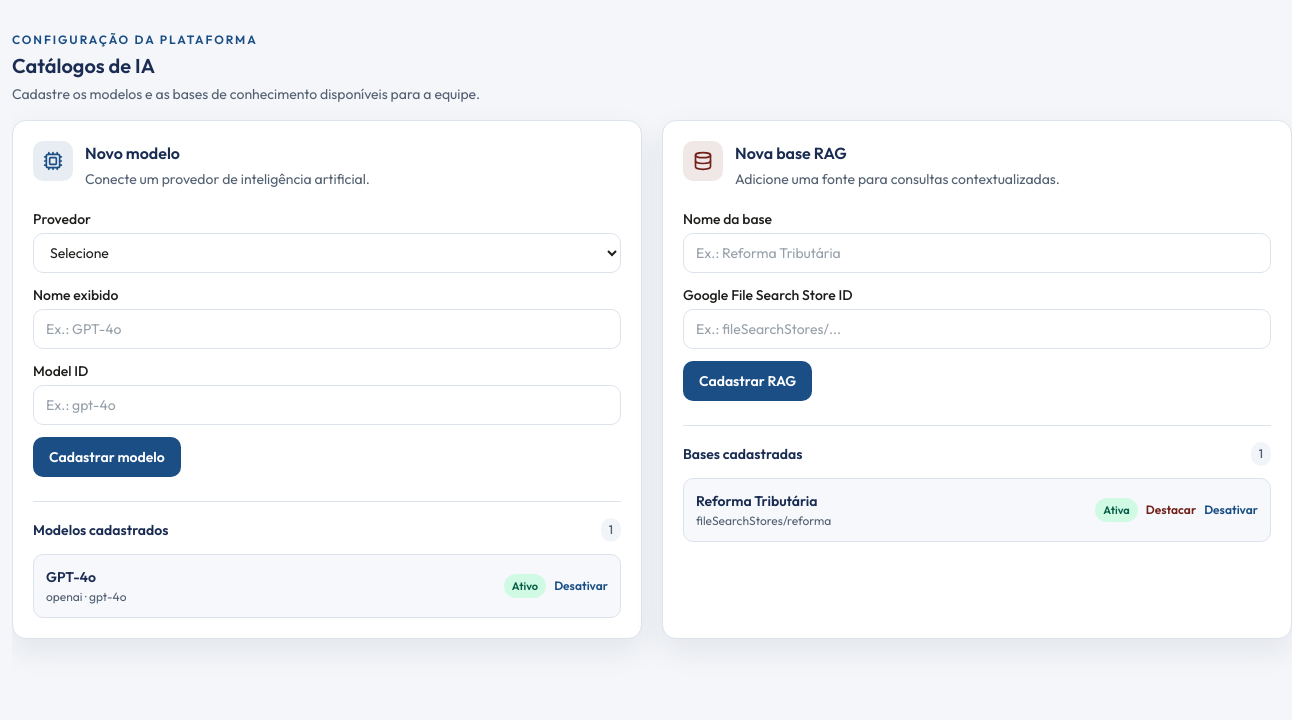
Test: CatalogPanel › allows admins to highlight a knowledge base
The image size is (1292, 720).
Expected: the text "Reforma Tributária" is shown, [696, 491, 831, 511]
Click the button with aria-label "Destacar Reforma Tributária" at (1171,510), box [1146, 502, 1196, 518]
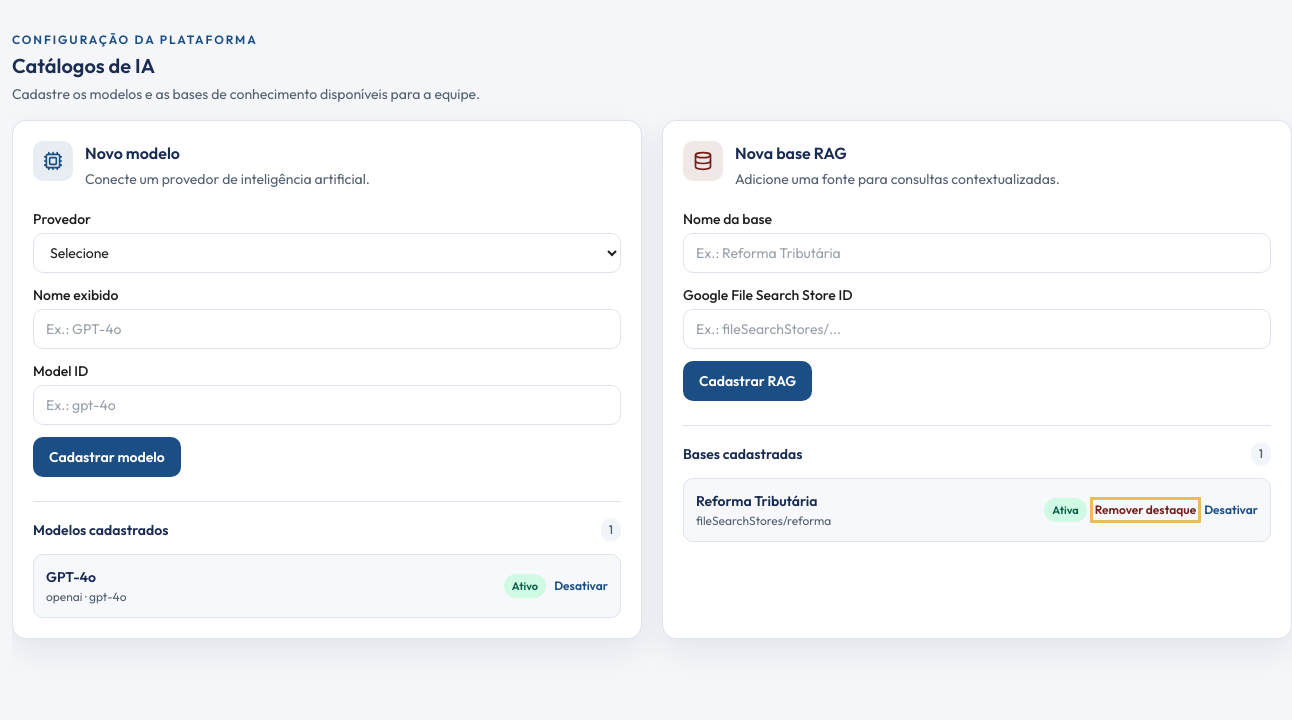
Result: the button with aria-label "Remover destaque de Reforma Tributária" is shown at [1095, 502, 1196, 518]
